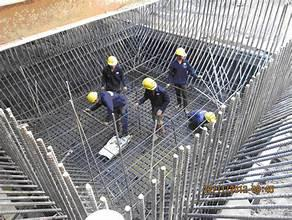Helmet: (140, 75, 160, 93), (172, 45, 190, 61), (203, 107, 217, 125), (105, 54, 121, 69), (85, 89, 99, 105)
Person: (82, 86, 131, 138), (169, 40, 202, 108), (184, 106, 222, 138), (99, 52, 130, 91), (140, 89, 168, 131), (35, 161, 36, 164)
no-vest: (100, 93, 127, 113), (144, 90, 167, 112), (171, 62, 193, 84), (103, 66, 124, 85), (189, 111, 204, 128)
